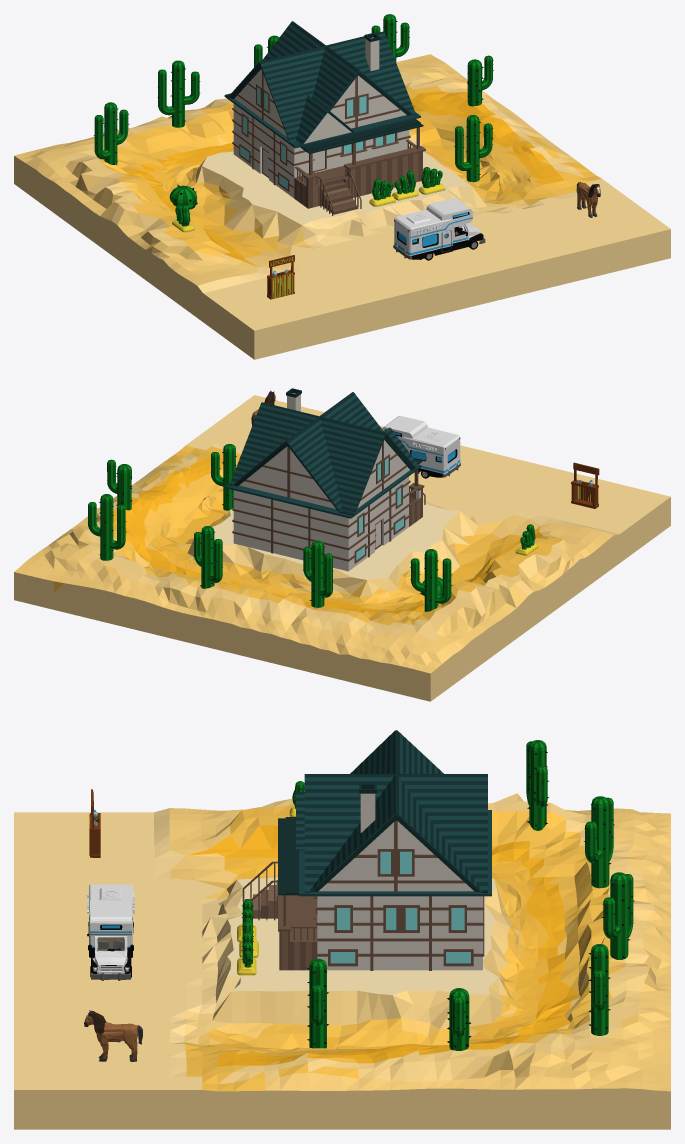
The picture shows the model from 3 angles, top to bottom: view 1: azimuth 30°, elevation 25°; view 2: azimuth 150°, elevation 25°; view 3: azimuth 270°, elevation 25°; orthographic projection. The views are drawn at different scales.
Parts seen in each view (by area): view 1: Cube.001, Cube.793, VEHICLES_CAMPER, Cylinder.037, Cylinder.044, Cylinder.045, Cylinder.038, OBJRANDOM_LEMONADE_STAND, Cylinder.042, ANIMAL_CABALLO, Cylinder.039, Cylinder.041 (+2 smaller); view 2: Cube.001, Cube.793, VEHICLES_CAMPER, Cylinder.042, Cylinder.045, Cylinder.044, Cylinder.043, Cylinder.037, OBJRANDOM_LEMONADE_STAND, Cylinder.038; view 3: Cube.001, Cube.793, VEHICLES_CAMPER, Cylinder.043, Cylinder.044, Cylinder.045, Cylinder.042, Cylinder.037, ANIMAL_CABALLO, Cylinder.038, Cylinder.041, OBJRANDOM_LEMONADE_STAND.
Part boxes in pixels (x1,y1,x2,y2): Cube.001: [14, 54, 670, 359]; Cube.793: [224, 21, 425, 215]; VEHICLES_CAMPER: [393, 198, 485, 260]; Cylinder.037: [454, 115, 493, 182]; Cylinder.044: [157, 60, 200, 127]; Cylinder.045: [93, 102, 129, 164]; Cylinder.038: [467, 55, 493, 106]; OBJRANDOM_LEMONADE_STAND: [267, 255, 294, 299]; Cylinder.042: [371, 14, 409, 62]; ANIMAL_CABALLO: [576, 182, 600, 217]; Cylinder.039: [369, 179, 395, 206]; Cylinder.041: [418, 167, 445, 194]; Cube.001: [14, 395, 670, 701]; Cube.793: [225, 388, 425, 571]; VEHICLES_CAMPER: [382, 415, 460, 478]; Cylinder.042: [88, 494, 126, 560]; Cylinder.045: [410, 549, 452, 611]; Cylinder.044: [303, 540, 333, 607]; Cylinder.043: [193, 526, 222, 588]; Cylinder.037: [211, 444, 240, 510]; OBJRANDOM_LEMONADE_STAND: [571, 462, 599, 508]; Cylinder.038: [107, 459, 131, 510]; Cube.001: [14, 793, 670, 1129]; Cube.793: [242, 730, 491, 970]; VEHICLES_CAMPER: [87, 884, 134, 980]; Cylinder.043: [602, 872, 634, 959]; Cylinder.044: [584, 796, 614, 888]; Cylinder.045: [526, 740, 548, 830]; Cylinder.042: [588, 944, 610, 1035]; Cylinder.037: [307, 958, 328, 1048]; ANIMAL_CABALLO: [84, 1010, 142, 1061]; Cylinder.038: [447, 988, 471, 1050]; Cylinder.041: [237, 932, 256, 975]; OBJRANDOM_LEMONADE_STAND: [89, 789, 100, 857].
Size of the model in its own units: 4002 by 1605 by 4001.
35 materials, 3 textured.
